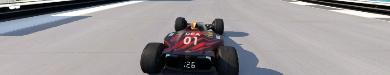Car: (139, 17, 239, 74)
